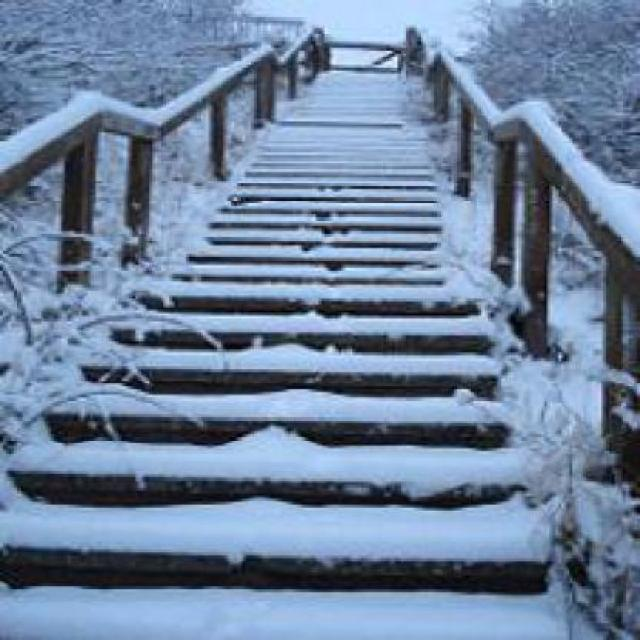stair: (26, 271, 538, 583)
